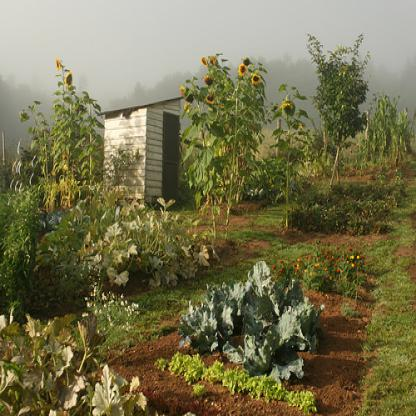SUN FLOWER: (173, 20, 276, 152), (17, 41, 101, 158), (275, 46, 303, 142)
